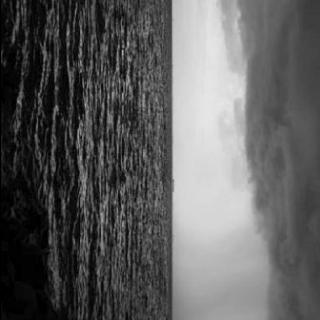Nimbostratus: (171, 0, 320, 320)
